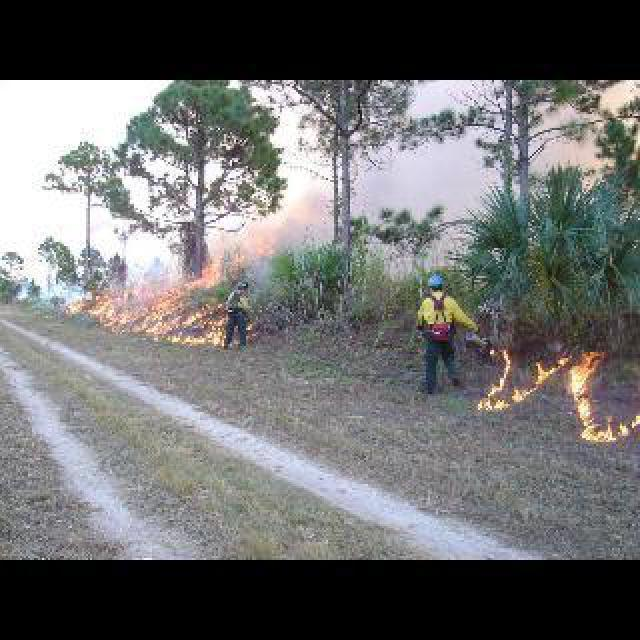Fire: (68, 228, 260, 346), (482, 342, 560, 414)
